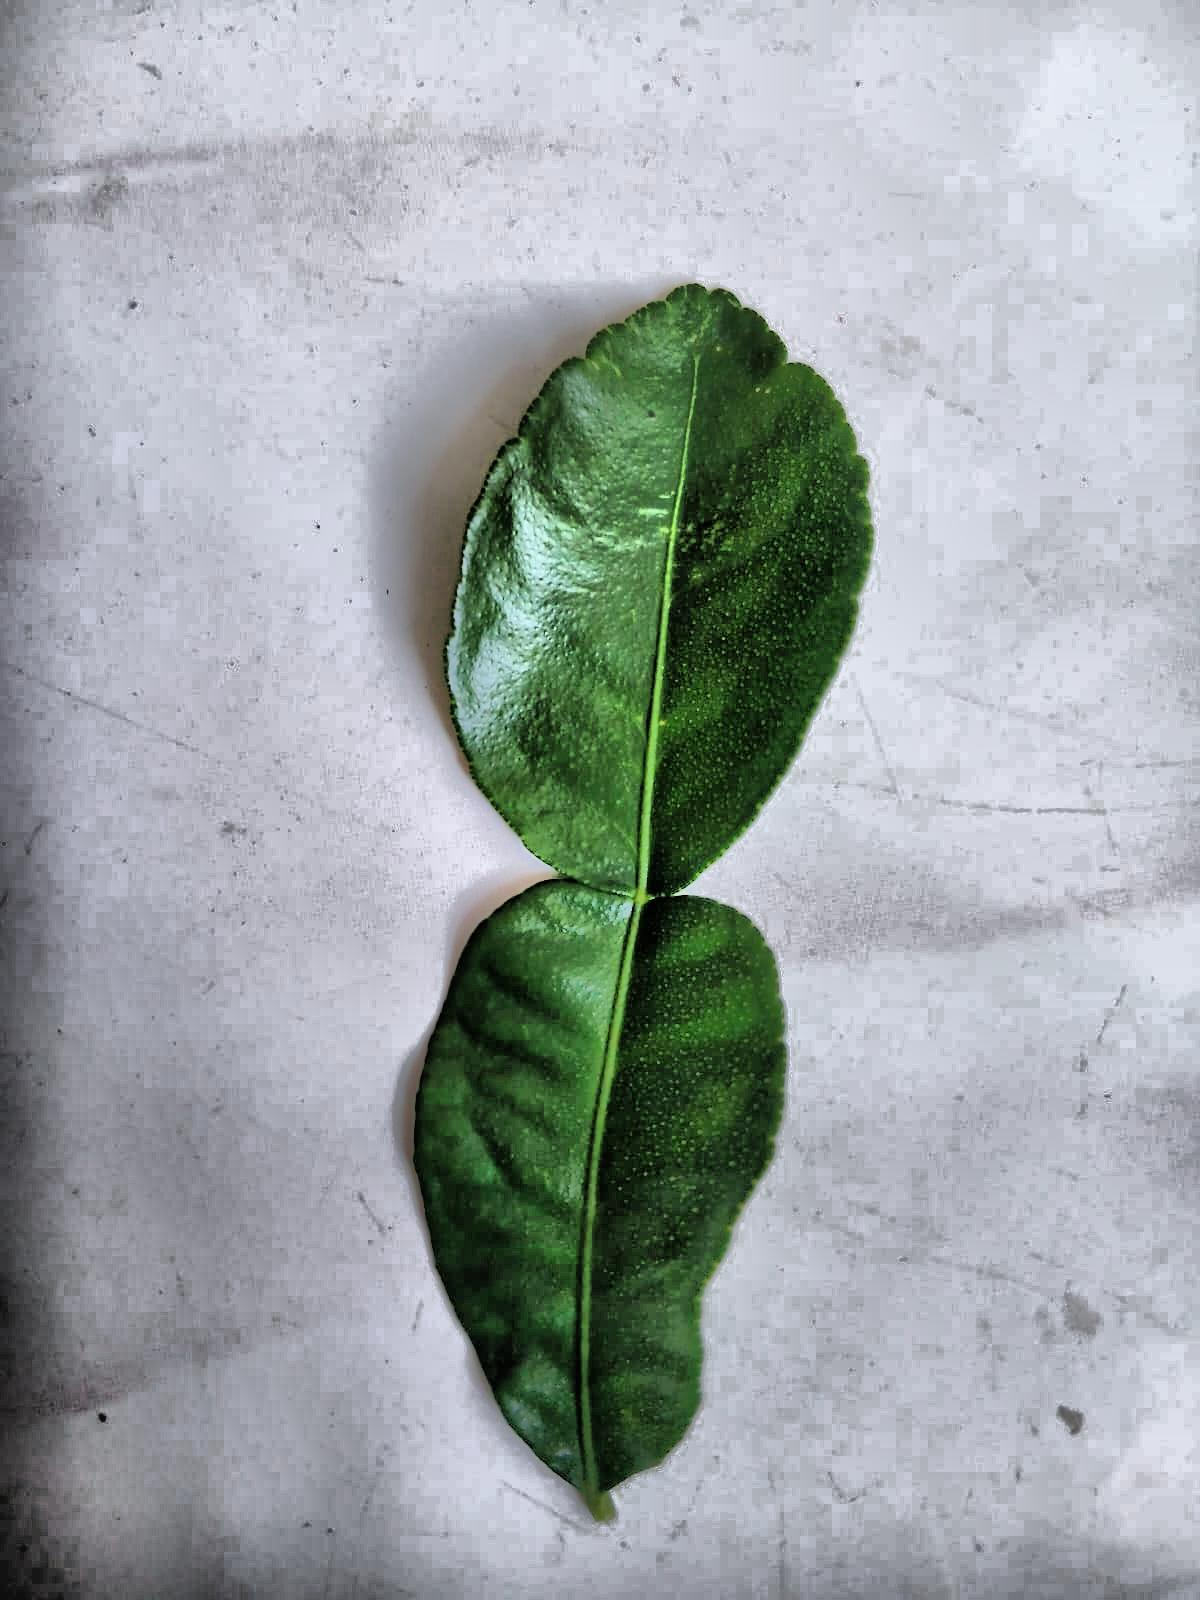daun jeruk: (416, 286, 872, 1519)
